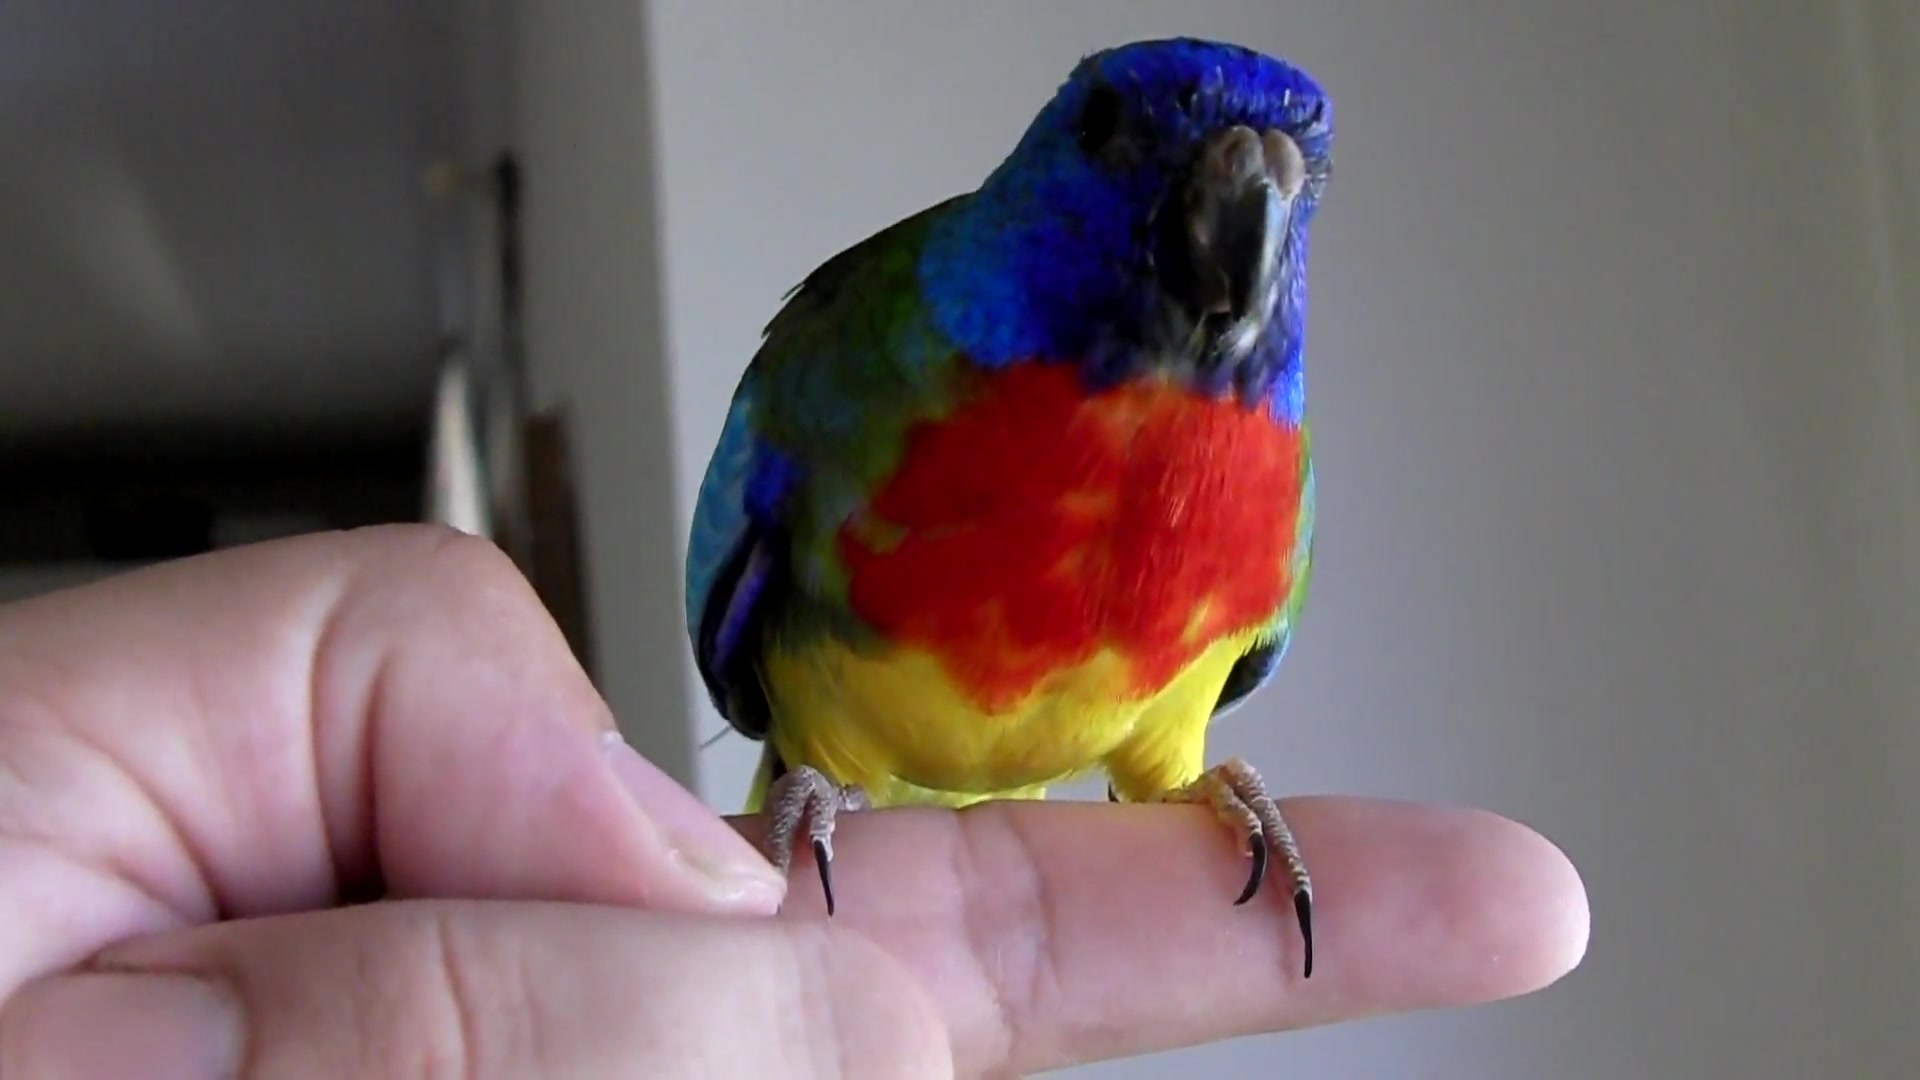bird: (688, 36, 1338, 992)
